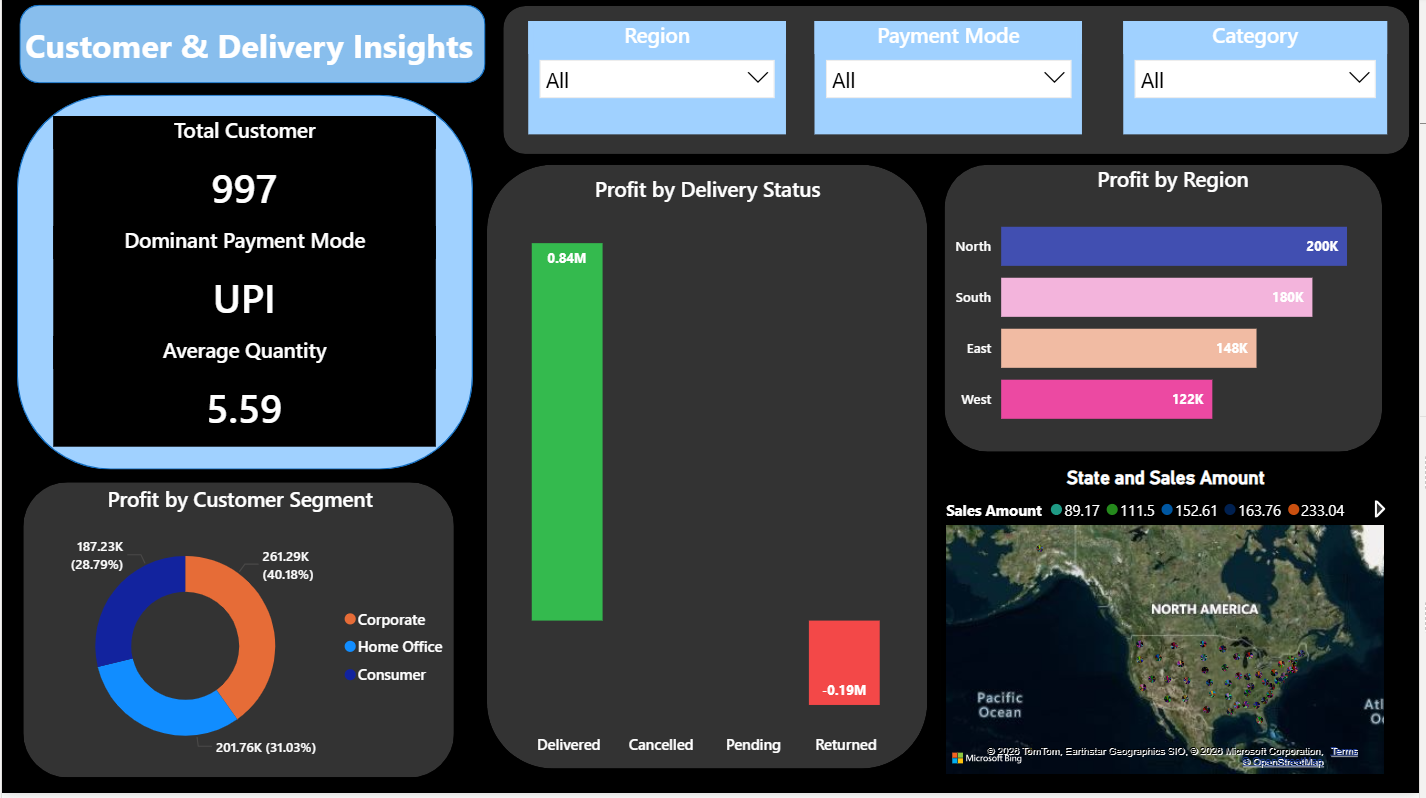

What the dashboard file says about the page in this screenshot:
{"tool":"powerbi","page":{"name":"Customer &Delivery Insights","canvas":[1280,720],"ordinal":2},"visuals":[{"type":"shape","box":[16.3,8.1,420.9,70.9],"z":0},{"type":"shape","box":[452.3,9.3,818.6,133.7],"z":0,"group":"g1"},{"type":"shape","box":[438.3,152.5,397.7,545.4],"z":0,"group":"g4"},{"type":"shape","box":[851.2,152.5,395.3,259.3],"z":0,"group":"g3"},{"type":"shape","box":[18.6,439.5,389.2,266.7],"z":0,"group":"g2"},{"type":"shape","box":[847.7,425.1,402.3,281],"z":1000},{"type":"group","id":"g1","title":"Group 2","box":[452.3,9.3,818.6,133.7],"z":2000},{"type":"slicer","title":"Region","fields":{"Values":["Superstore_Management_Dataset.Region"]},"box":[475.6,22.1,232.6,102.3],"z":3000},{"type":"slicer","title":"Payment Mode","fields":{"Values":["Superstore_Management_Dataset.Payment Mode"]},"box":[733.7,22.1,241.9,102.3],"z":4000},{"type":"donutChart","title":"Profit by Customer Segment","fields":{"Y":["Sum(Superstore_Management_Dataset.Profit)"],"Category":["Superstore_Management_Dataset.Customer Segment"]},"box":[18,442.3,394.2,266.7],"z":4006,"group":"g2"},{"type":"slicer","title":"Category","fields":{"Values":["Superstore_Management_Dataset.Category"]},"box":[1012.8,22.1,238.4,102.3],"z":5000},{"type":"group","id":"g2","title":"Group 2","box":[18,439.5,395,269],"z":6000},{"type":"group","id":"g3","title":"Group 2","box":[851.2,152.5,395.3,259.3],"z":7000},{"type":"clusteredBarChart","title":"Profit by Region","fields":{"Category":["Superstore_Management_Dataset.Region"],"Y":["Sum(Superstore_Management_Dataset.Profit)"]},"box":[854.7,152.3,405.8,254.7],"z":8000},{"type":"group","id":"g4","title":"Group 2","box":[438.3,152.5,397.4,545.1],"z":9000},{"type":"columnChart","title":"Profit by Delivery Status","fields":{"Category":["Superstore_Management_Dataset.Delivery Status"],"Y":["Sum(Superstore_Management_Dataset.Profit)"]},"box":[441.1,161.7,393.8,534.3],"z":9002,"group":"g4"},{"type":"shape","box":[13.2,88.9,411.9,338.6],"z":10000},{"type":"cardVisual","title":"Total Customer","fields":{"Data":["Count(Superstore_Management_Dataset.Customer Name)"]},"box":[46.8,108.1,345.8,99.7],"z":11000},{"type":"cardVisual","title":"Dominant Payment Mode","fields":{"Data":["Superstore_Management_Dataset.First Payment Mode max per Payment Mode"]},"box":[46.8,207.7,345.8,99.7],"z":12000},{"type":"cardVisual","title":"Average Quantity","fields":{"Data":["Avg(Superstore_Management_Dataset.Quantity)"]},"box":[46.8,307.4,345.8,99.7],"z":13000},{"type":"map","fields":{"Category":["Superstore_Management_Dataset.State"],"Series":["Superstore_Management_Dataset.Sales Amount"]},"box":[848,424.6,406.5,283.4],"z":14000}]}

Visuals, with their boxes in screenshot pixels (x1, y1, x2, y2), scaled from the page's 1280x720 canvas onto the 1426x798 screenshot:
shape: region(18, 9, 487, 88)
shape: region(504, 10, 1416, 158)
shape: region(488, 169, 931, 774)
shape: region(948, 169, 1389, 456)
shape: region(21, 487, 454, 783)
shape: region(944, 471, 1393, 783)
"Group 2" group: region(504, 10, 1416, 158)
"Region" slicer: region(530, 24, 789, 138)
"Payment Mode" slicer: region(817, 24, 1087, 138)
"Profit by Customer Segment" donutChart: region(20, 490, 459, 786)
"Category" slicer: region(1128, 24, 1394, 138)
"Group 2" group: region(20, 487, 460, 785)
"Group 2" group: region(948, 169, 1389, 456)
"Profit by Region" clusteredBarChart: region(952, 169, 1404, 451)
"Group 2" group: region(488, 169, 931, 773)
"Profit by Delivery Status" columnChart: region(491, 179, 930, 771)
shape: region(15, 99, 474, 474)
"Total Customer" cardVisual: region(52, 120, 437, 230)
"Dominant Payment Mode" cardVisual: region(52, 230, 437, 341)
"Average Quantity" cardVisual: region(52, 341, 437, 451)
map - Superstore_Management_Dataset.State x Superstore_Management_Dataset.Sales Amount: region(945, 471, 1398, 785)
